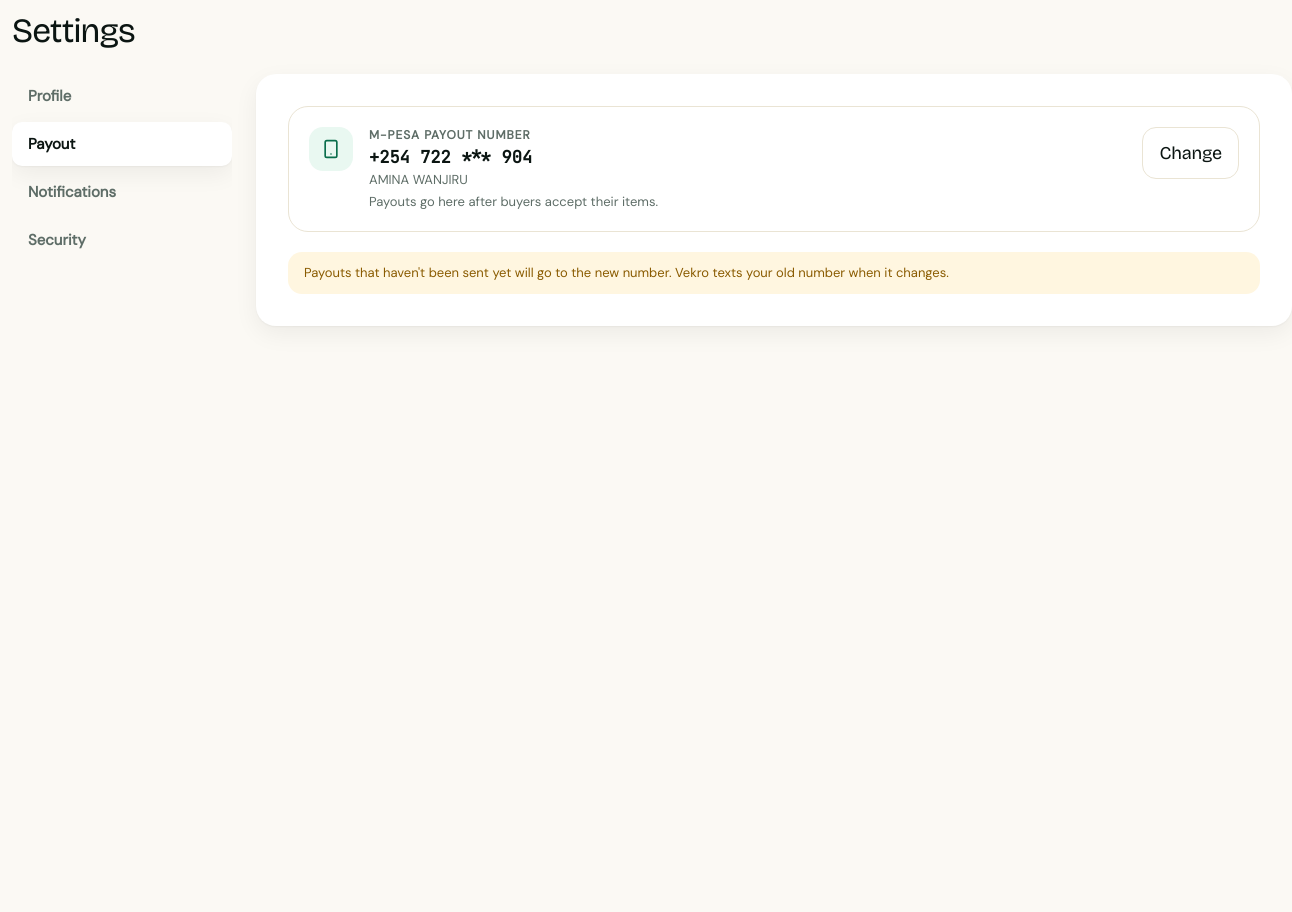
Test: S13 settings: payout › blocks mismatched numbers and the current number
The image size is (1292, 912).
Click the button "Change" at (1191, 153), box [1142,127,1239,179]
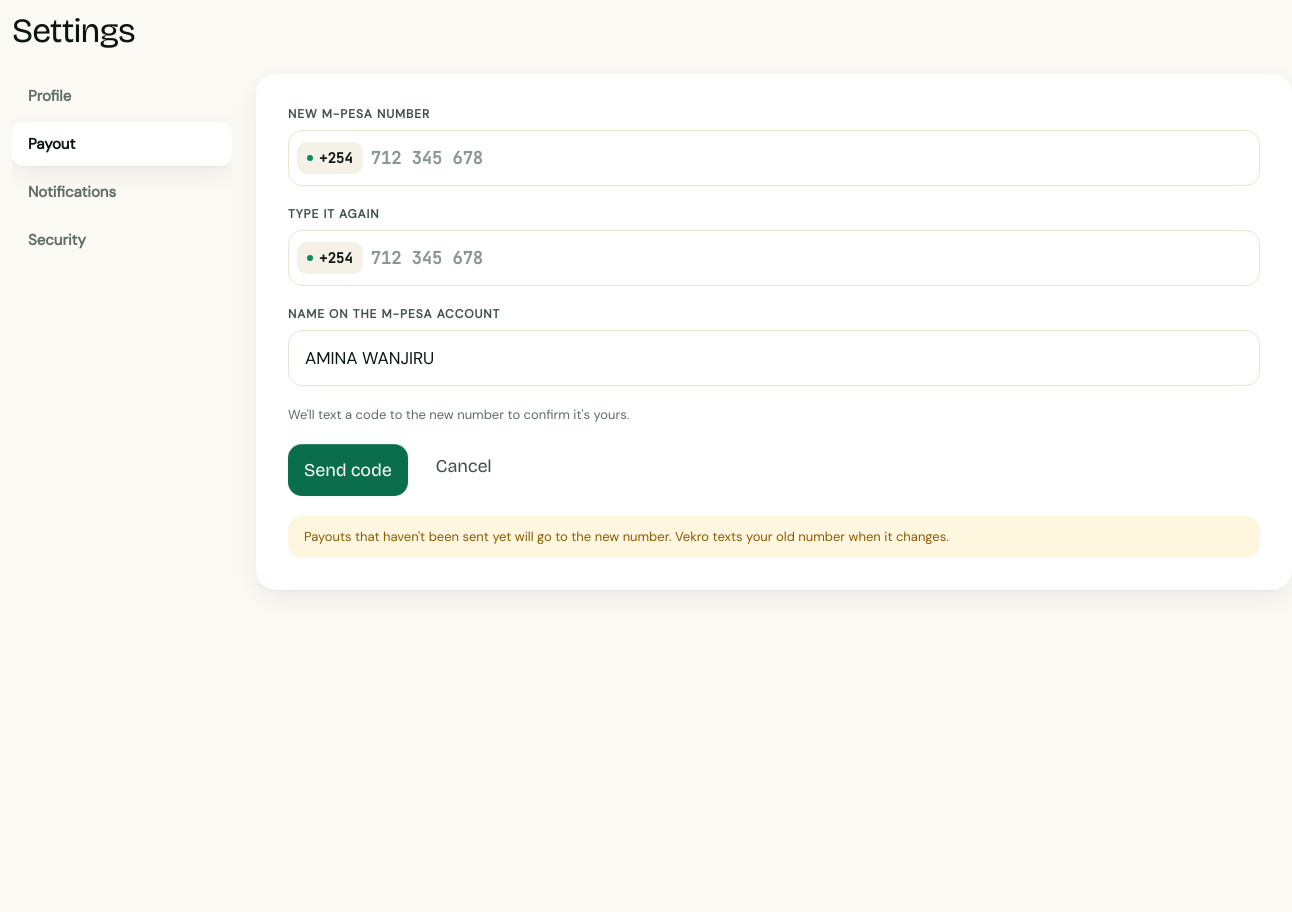
Type "722118904" into the field labelled "New M-Pesa number" at (791, 158), box [371,131,1211,185]
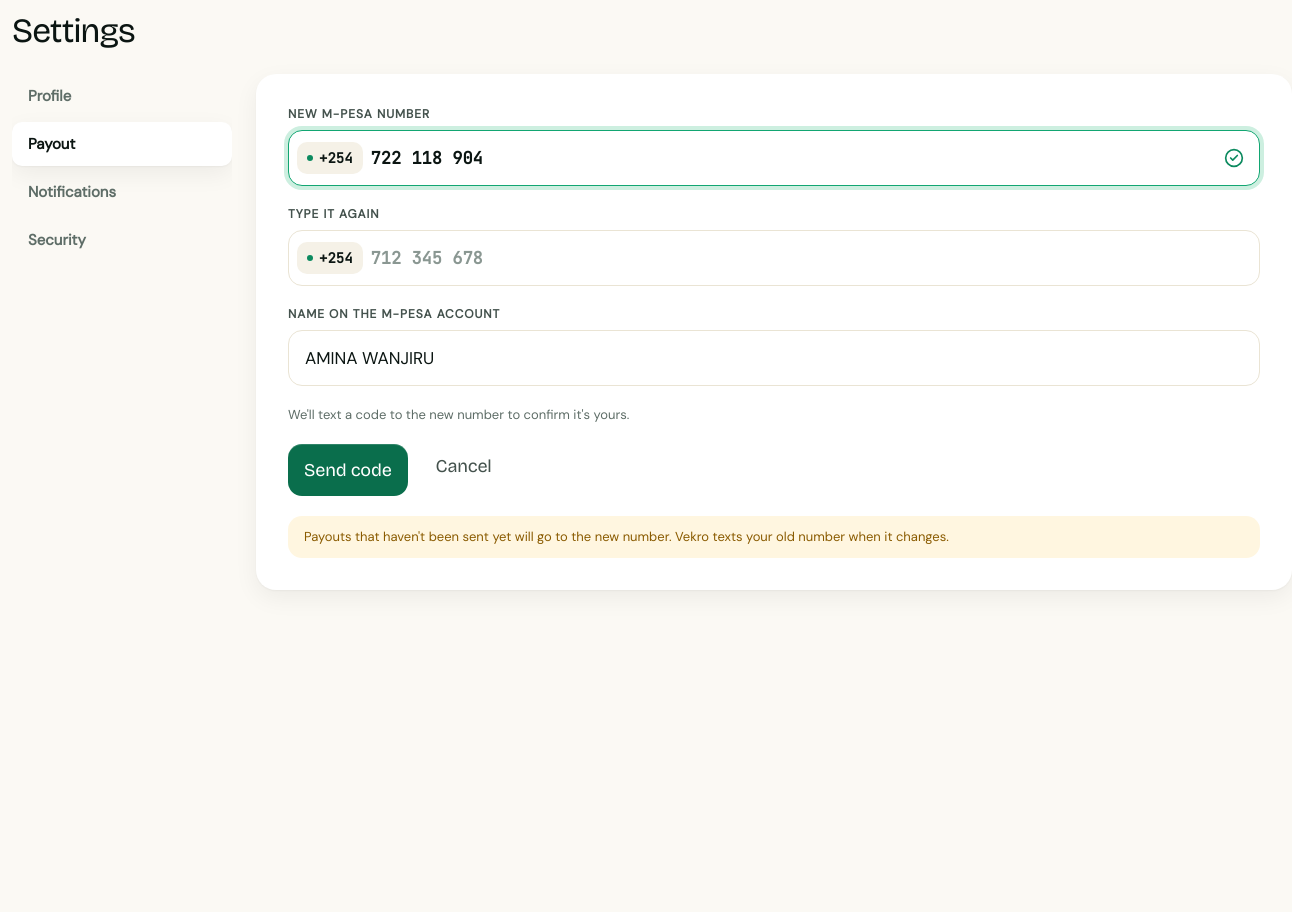
Type "722118940" into the field labelled "Type it again" at (791, 258), box [371,231,1211,285]
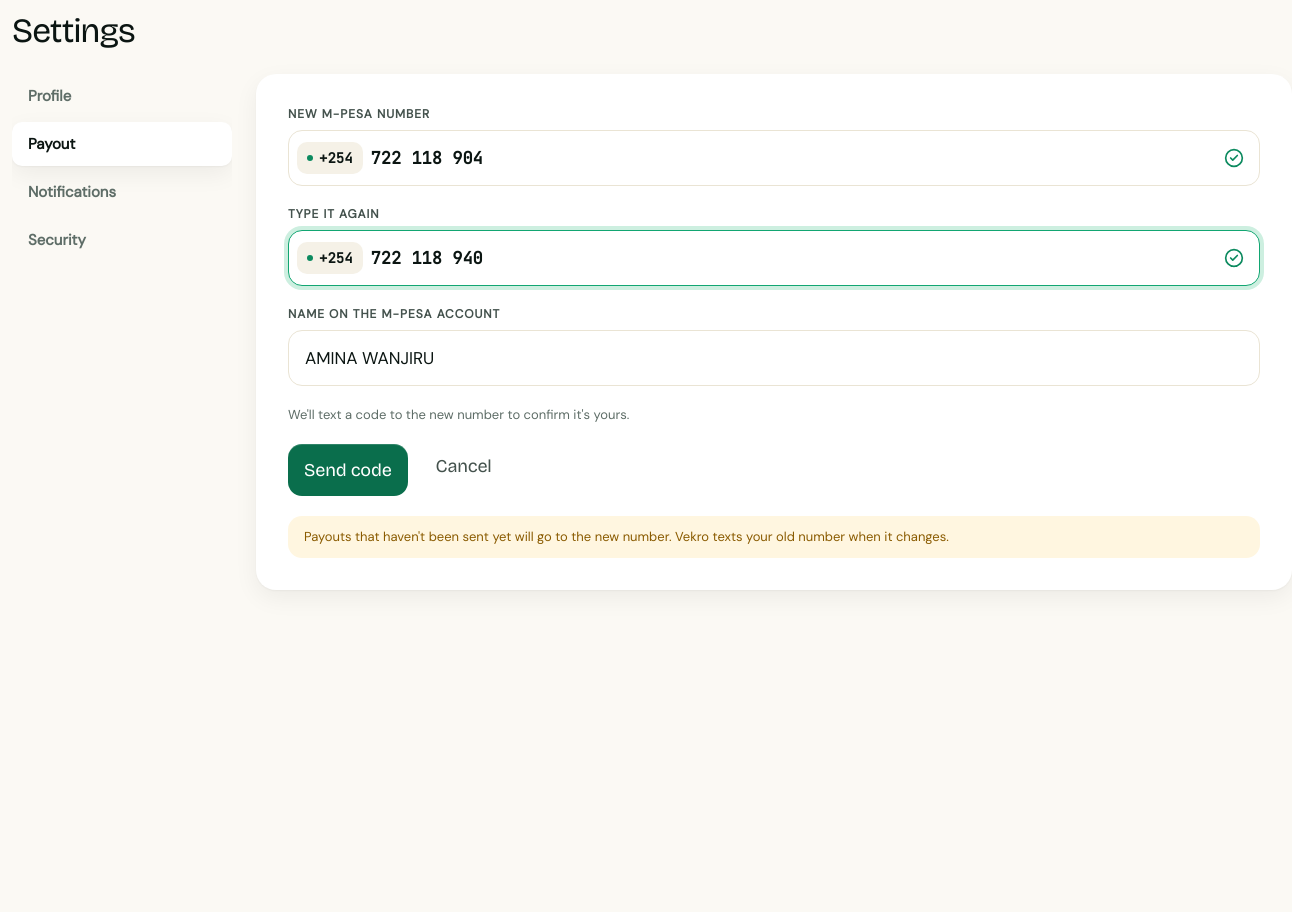
Click the button "Send code" at (348, 470), box [288,444,408,496]
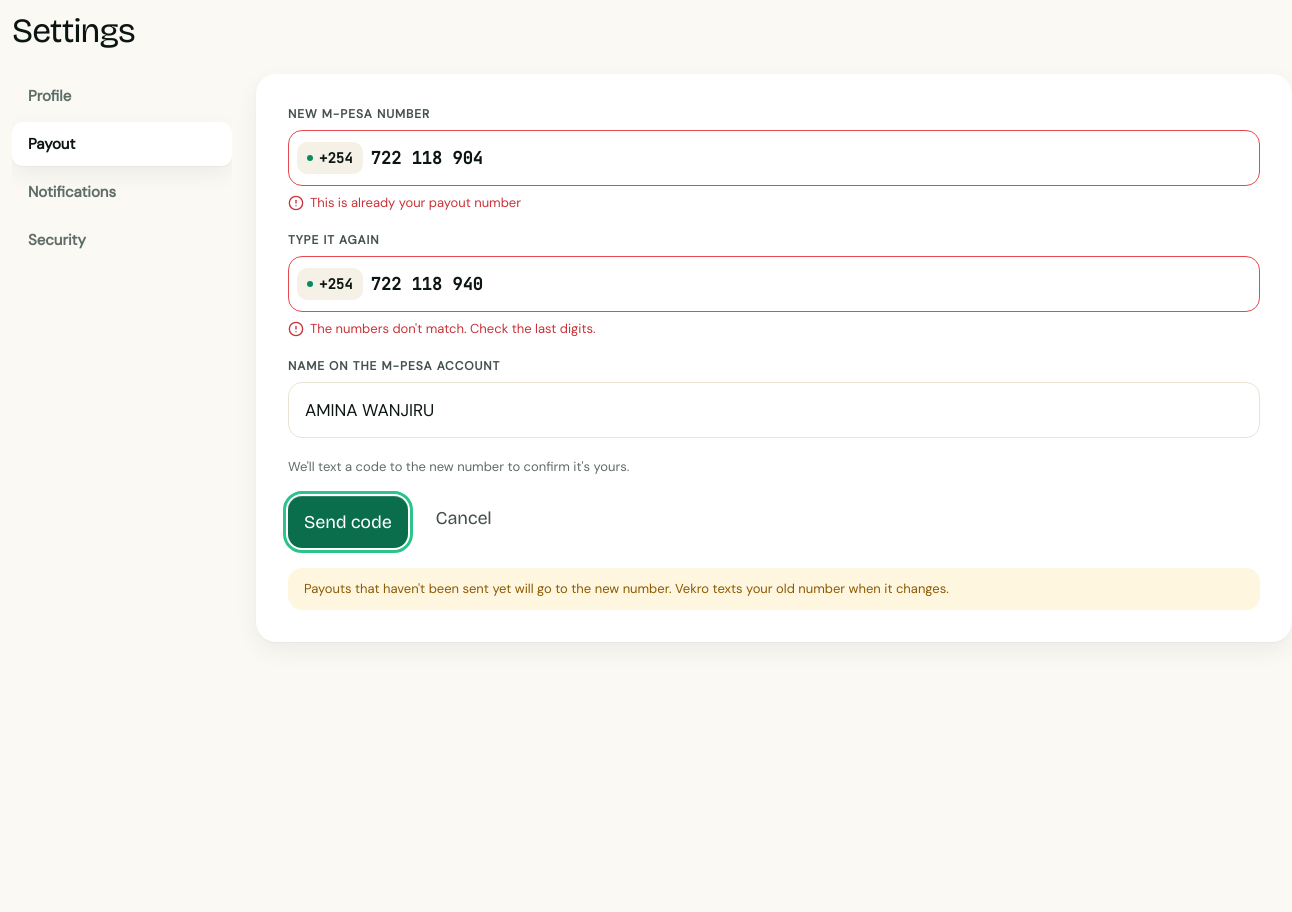
Expected: the text "This is already your payout number" is shown, [288,194,521,211]
Expected: the text "The numbers don't match. Check the last digits." is shown, [288,320,596,337]
